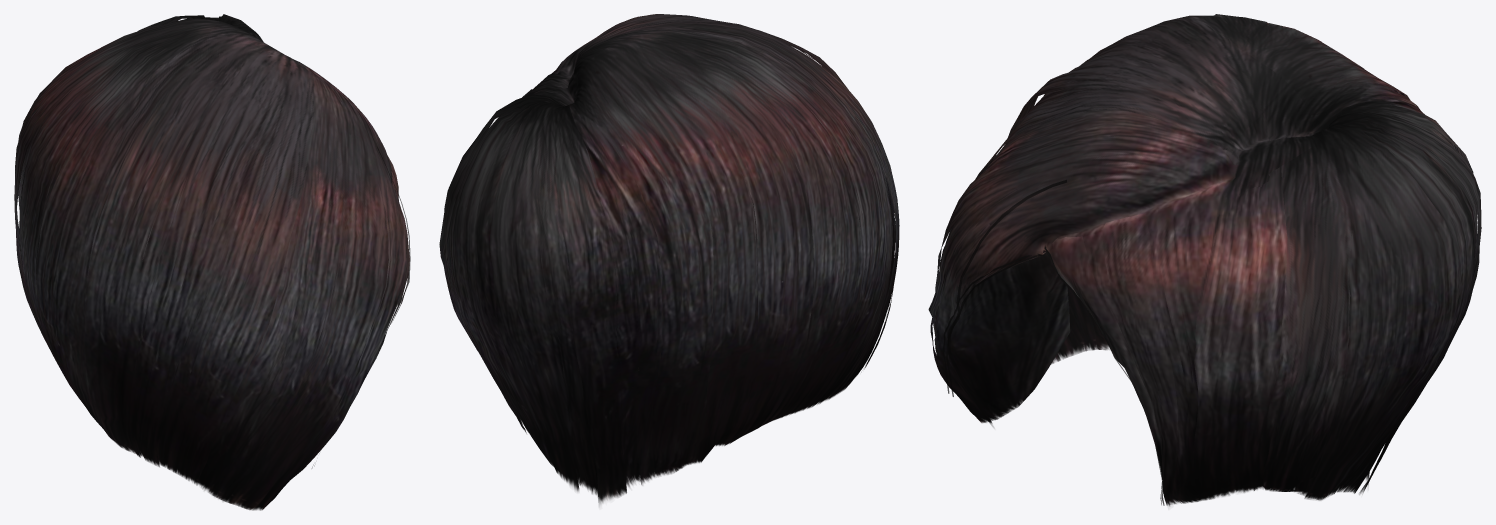
Rendered from hair-male-bob01.glb.
The picture shows the model from 3 angles, left to right: view 1: azimuth 30°, elevation 25°; view 2: azimuth 150°, elevation 25°; view 3: azimuth 270°, elevation 25°; orthographic projection. The views are drawn at different scales.
Parts seen in each view (by area): view 1: bob01; view 2: bob01; view 3: bob01.
Boxes of the visible parts, x1,y1,x2,y2 form: bob01: [14, 14, 410, 510]; bob01: [439, 14, 899, 505]; bob01: [928, 14, 1481, 506].
Bounding box in the file's own units: 0.4321 × 0.4861 × 0.5377.
Materials: 1 (1 with a texture image).
